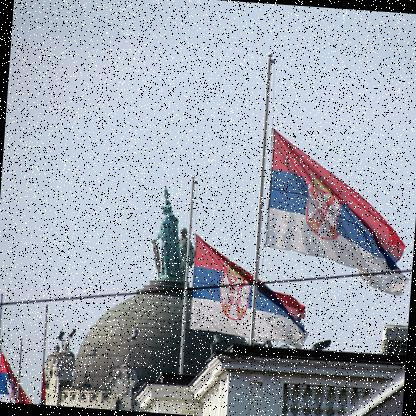rs: (263, 130, 416, 298), (190, 236, 316, 351), (1, 348, 37, 404)
